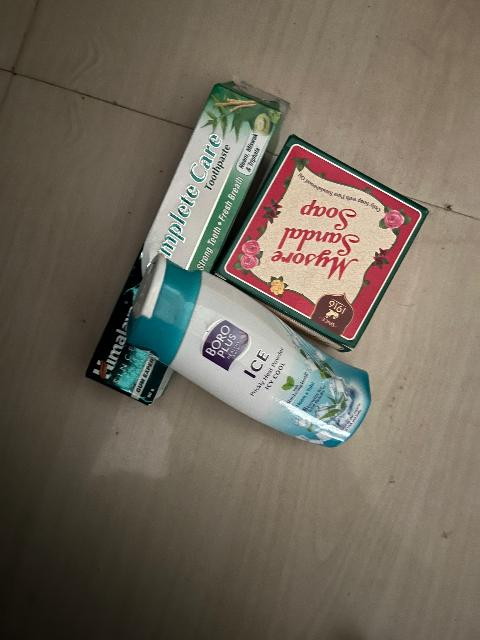boroplus: (151, 262, 369, 457)
himalaya toothpaste: (152, 61, 275, 268)
mysore sandal soap: (247, 145, 442, 307)
